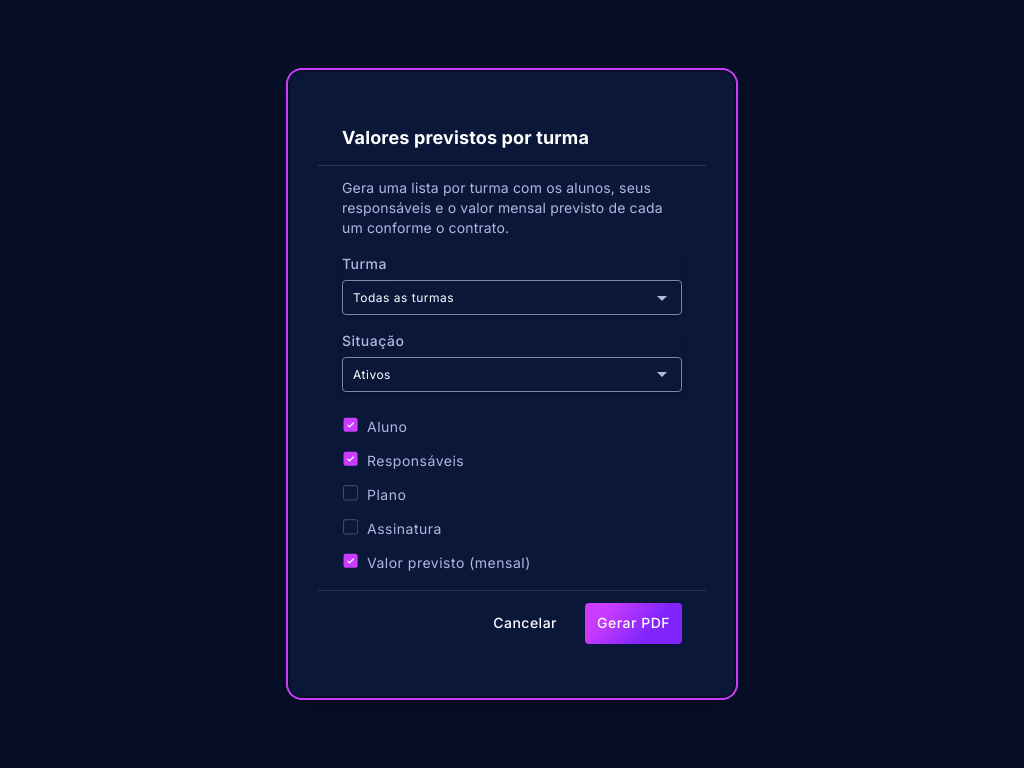
Test: ExpectedPaymentsReportDialog › cannot be generated with no column ticked
Click the checkbox labelled "Aluno".
click(375, 426)  # box 342,417 -> 408,434
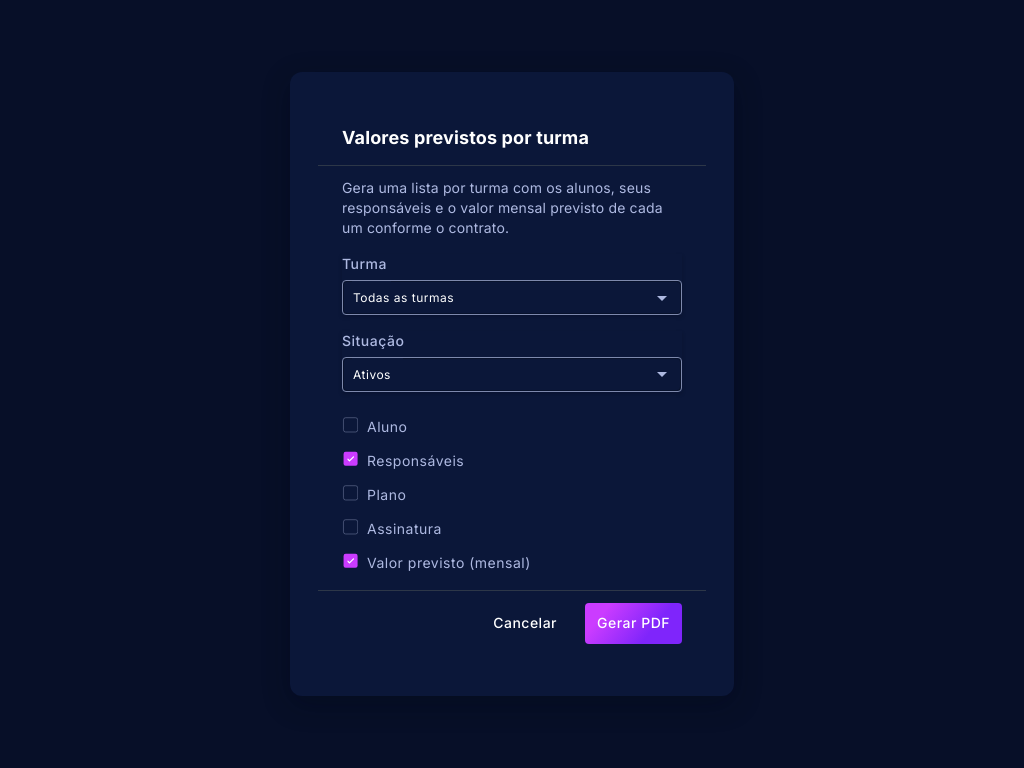
Click the checkbox labelled "Responsáveis".
click(403, 460)  # box 342,451 -> 464,468
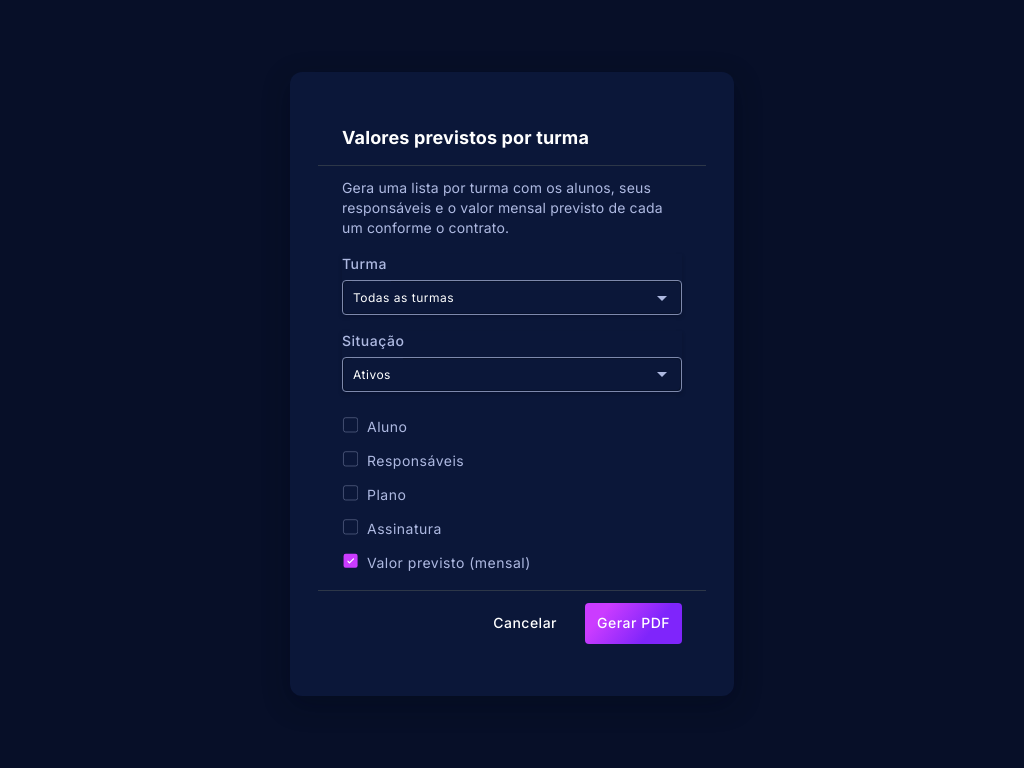
Click the checkbox labelled "Valor previsto (mensal)".
click(436, 562)  # box 342,553 -> 531,570
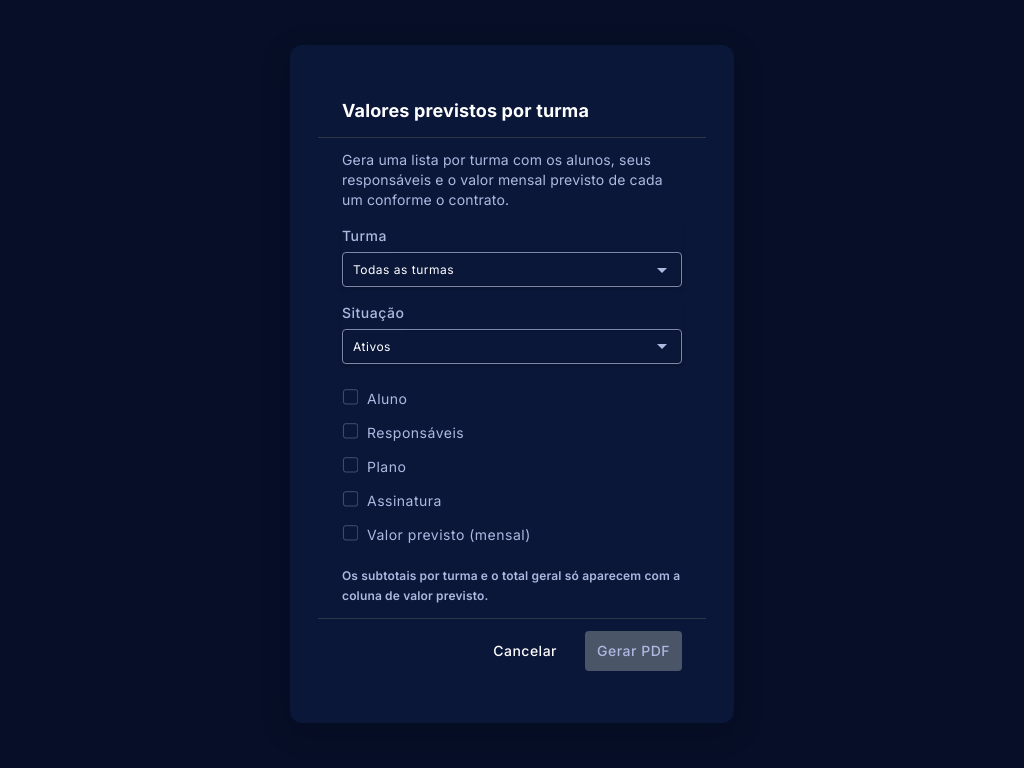
Expected: the button "Gerar PDF" is disabled, 585,631 -> 682,671
